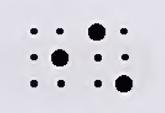dot_5: (30, 27, 70, 88)
two_cell_non_alphabet_kabila: (88, 22, 133, 93)
